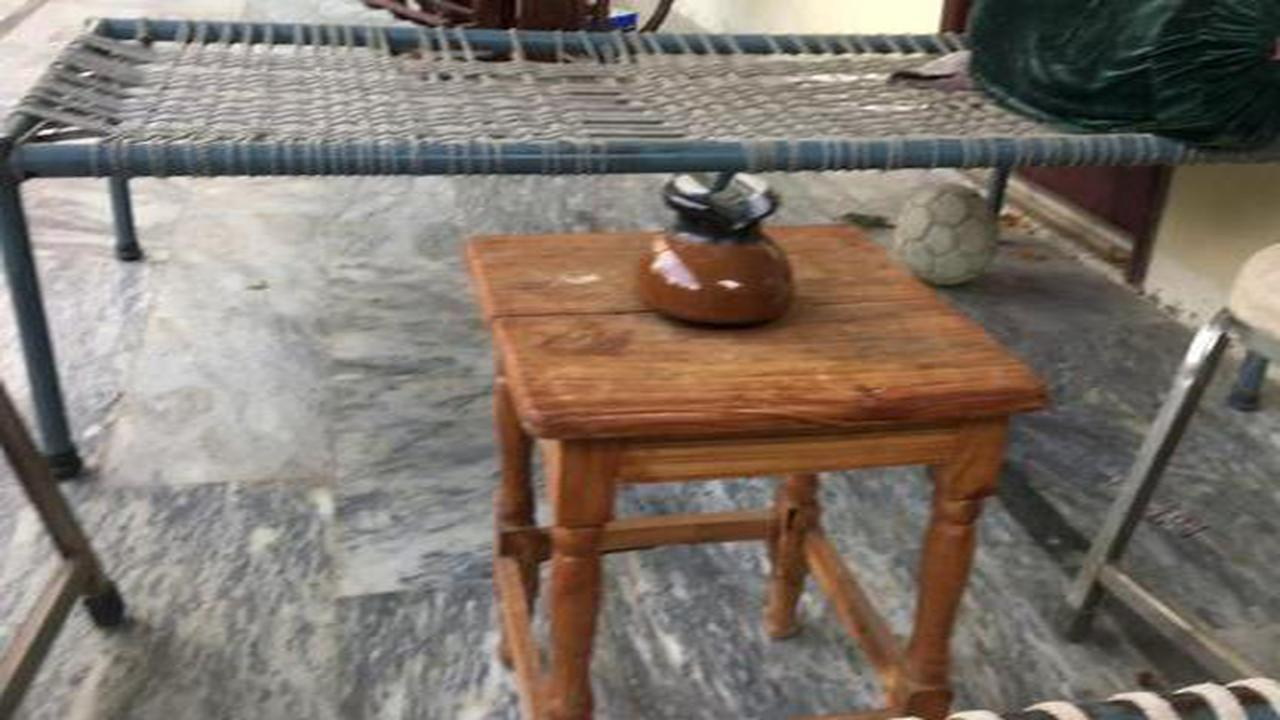insulator_pin: (622, 155, 813, 345)
